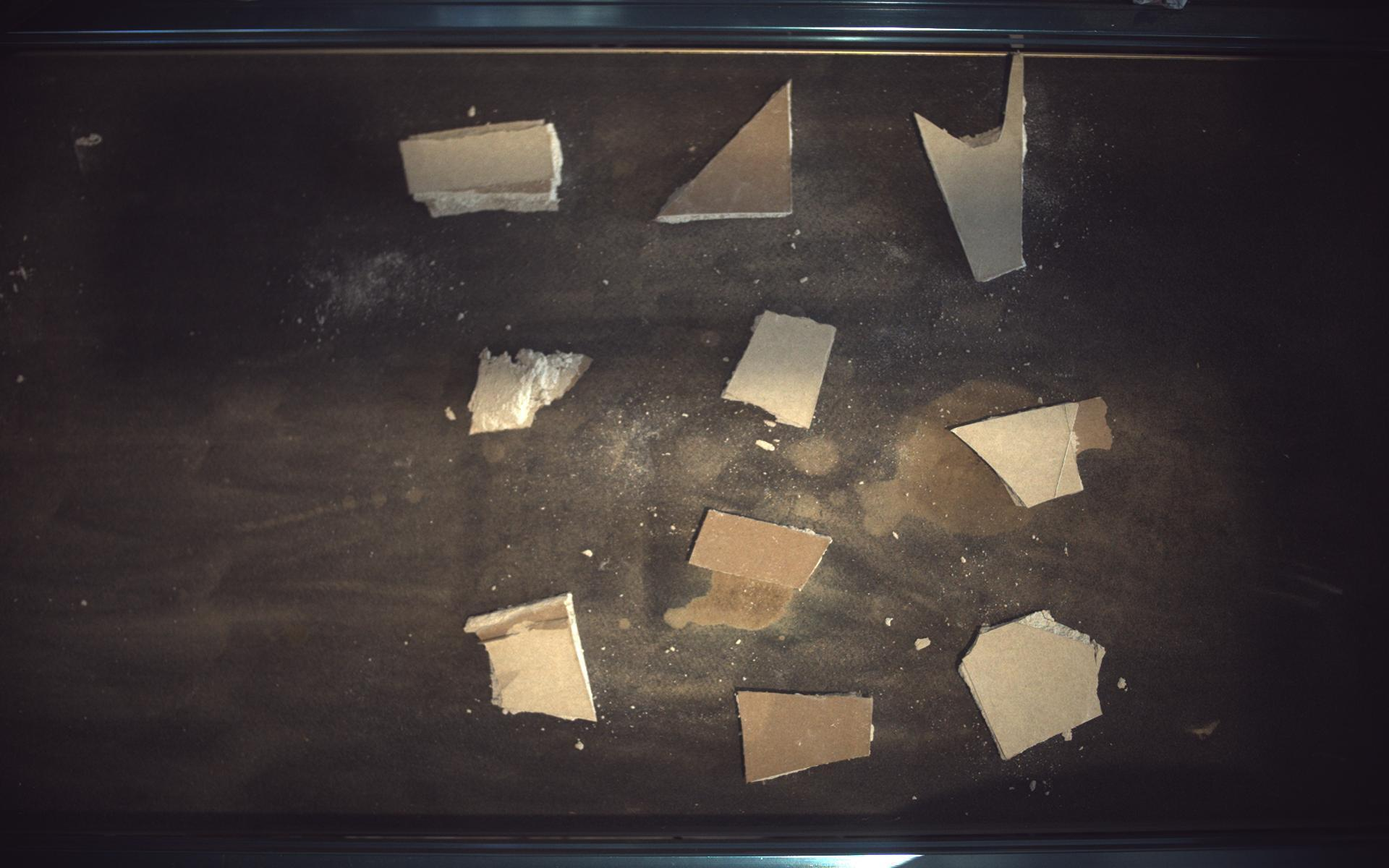gypsum_board: (916, 51, 1029, 281), (961, 611, 1107, 761), (666, 510, 833, 630), (656, 80, 793, 222), (954, 398, 1114, 508), (464, 594, 596, 723), (399, 119, 563, 217), (723, 310, 837, 429), (737, 692, 875, 784), (469, 348, 592, 435)
